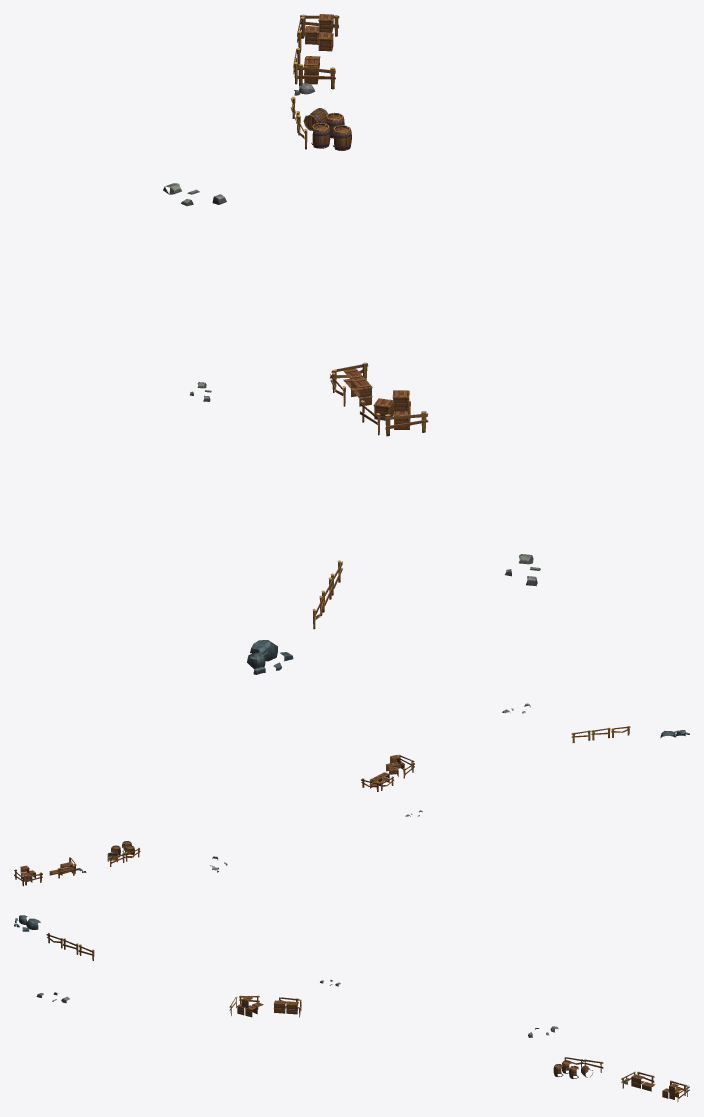
File: wujian37_1.fbx
3 views of the same model, one above another, from view 1: azimuth 30°, elevation 25°; view 2: azimuth 150°, elevation 25°; view 3: azimuth 270°, elevation 25° (orthographic). The views are drawn at different scales.
Visible parts, largest first — view 1: wujian37_1; view 2: wujian37_1; view 3: wujian37_1.
Part boxes in pixels (x1,y1,x2,y2): wujian37_1: (163, 14, 540, 674); wujian37_1: (14, 703, 689, 886); wujian37_1: (14, 915, 689, 1102).
Bounding box in the file's own units: 4626 × 191 × 7206.
